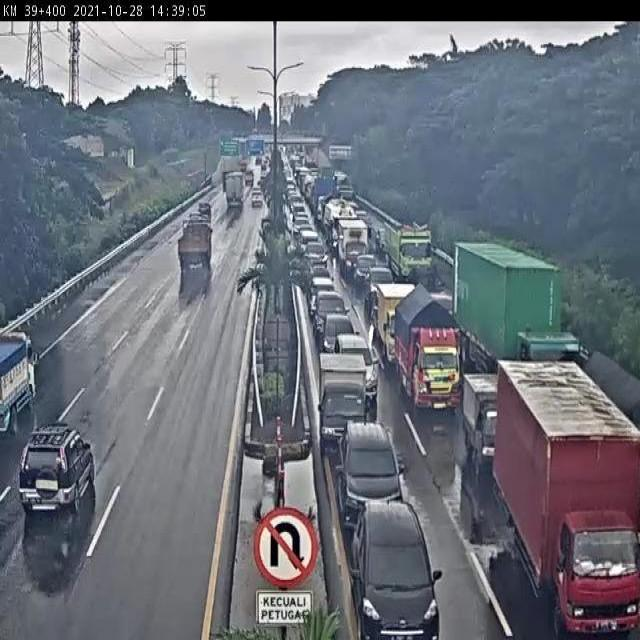big truck: (499, 360, 628, 549), (451, 243, 588, 377), (384, 221, 438, 279), (340, 217, 371, 275), (324, 199, 356, 245)
car: (349, 494, 444, 640), (18, 416, 94, 531), (338, 414, 408, 510), (333, 329, 379, 395), (312, 288, 350, 319), (320, 312, 356, 344), (305, 242, 333, 270), (371, 220, 393, 255), (366, 267, 390, 296), (352, 252, 376, 277), (314, 274, 338, 294), (196, 200, 214, 220), (296, 229, 319, 244), (250, 189, 265, 208), (292, 220, 310, 231)
small truck: (393, 290, 465, 402), (319, 355, 371, 445), (462, 371, 502, 476), (2, 329, 42, 412), (377, 279, 410, 365), (177, 224, 219, 269), (223, 172, 246, 213)
